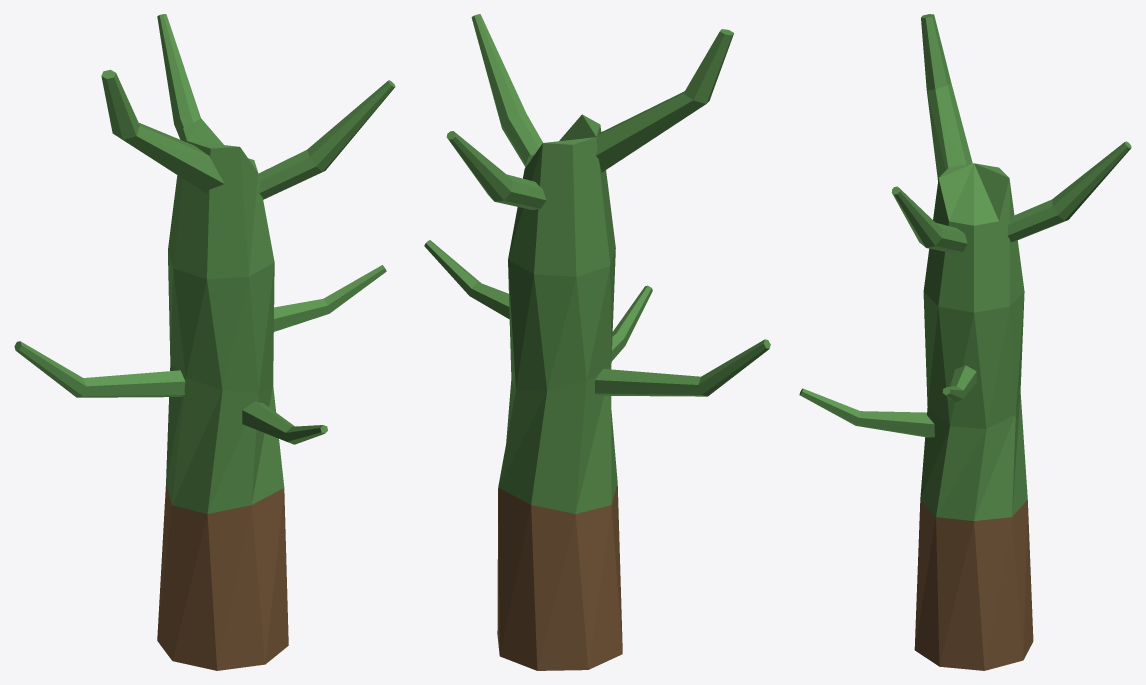
File: tree3d-172.glb
3 renders of one model, left to right at view 1: azimuth 30°, elevation 25°; view 2: azimuth 150°, elevation 25°; view 3: azimuth 270°, elevation 25°, orthographic. The views are drawn at different scales.
Visible parts, largest first — view 1: tree3d-172; view 2: tree3d-172; view 3: tree3d-172.
Part boxes in pixels (x1,y1,x2,y2): tree3d-172: (14,14,395,670); tree3d-172: (424,14,770,670); tree3d-172: (799,14,1131,670).
Bounding box in the file's own units: 0.5973 × 1 × 0.5292.
